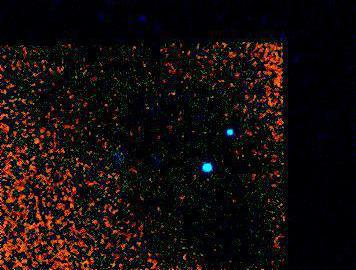star: (156, 84, 186, 114)
